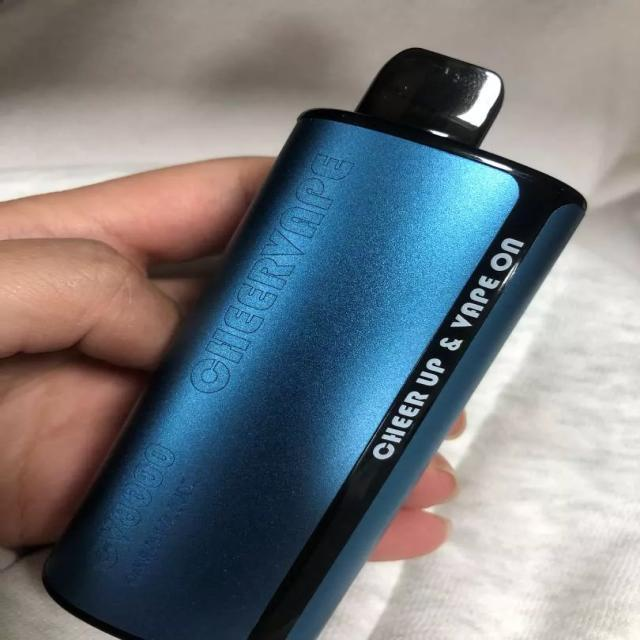Hazard: (43, 46, 587, 639)
